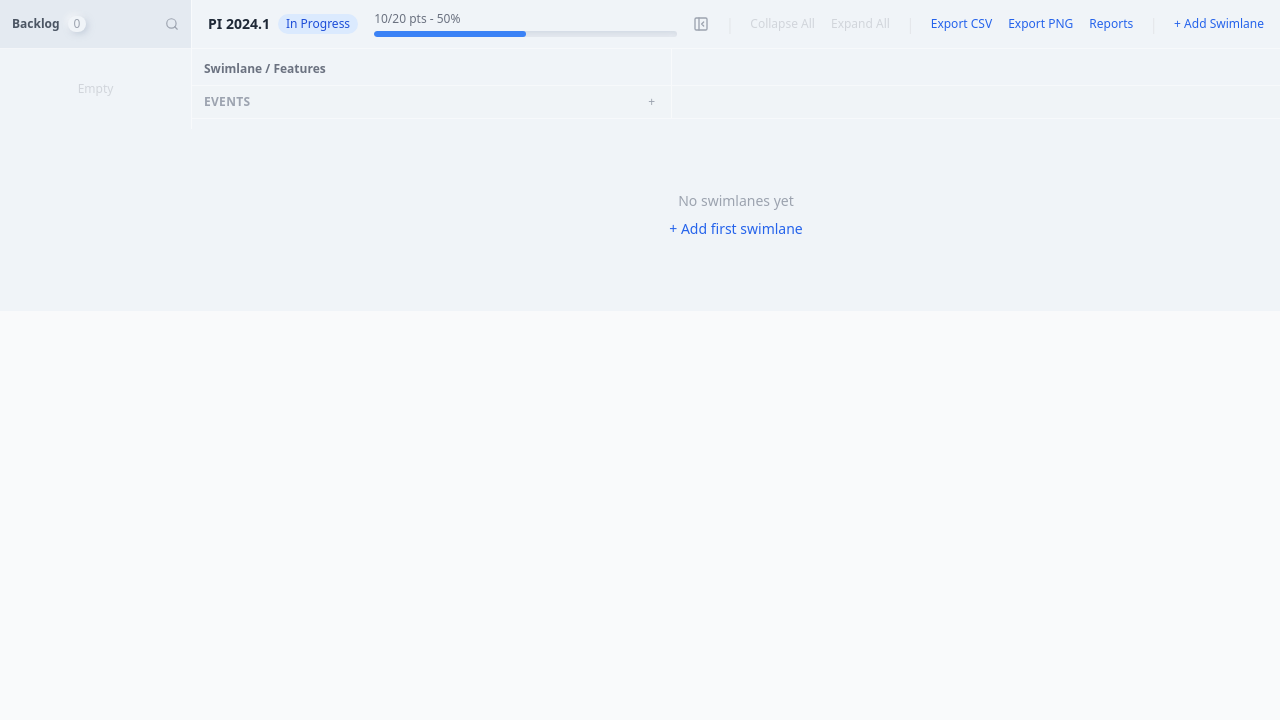
Test: PIBoardPage export buttons › offers to add the first swimlane on an empty board
Expected: the text "No swimlanes yet" is shown, [678,191,794,211]
Click the button "+ Add first swimlane".
click(736, 229)  # box [669,219,803,239]
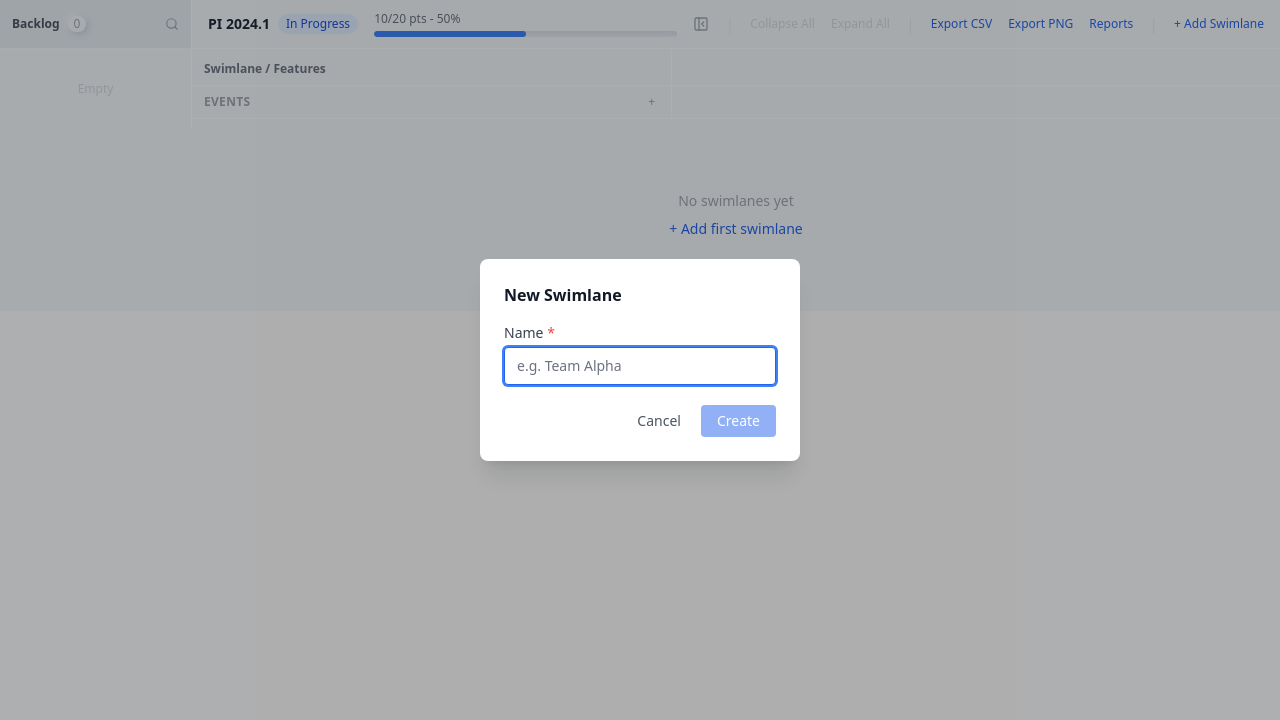
Result: the dialog is shown at [480,259,800,461]
